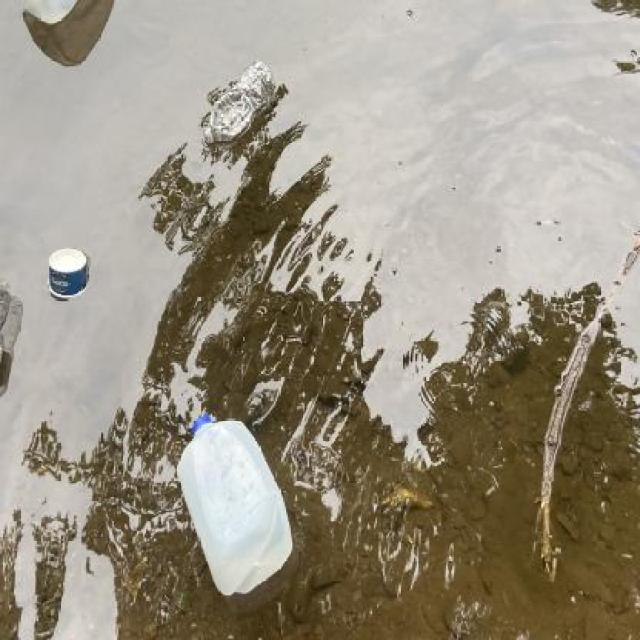Paper: (41, 237, 97, 305)
Plastic: (172, 404, 296, 599), (199, 52, 279, 152), (0, 271, 20, 372), (17, 0, 86, 29)
